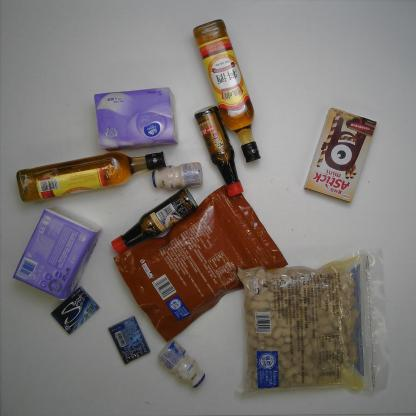Dessert: (303, 107, 376, 204)
Dried Food: (111, 182, 290, 342), (235, 247, 391, 397)
Gum: (49, 284, 101, 335), (107, 316, 150, 365)
Milk: (156, 338, 206, 388), (152, 161, 205, 190)
Seasoner: (191, 18, 263, 164), (15, 148, 168, 203), (109, 187, 198, 255), (193, 104, 245, 198)
Tissue: (10, 207, 103, 302), (92, 85, 180, 153)
